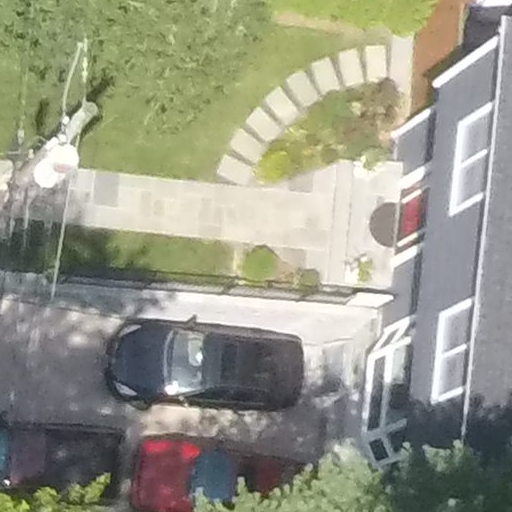car: (101, 306, 307, 422)
flower bed: (349, 255, 374, 287)
flower pot: (360, 159, 380, 175)
